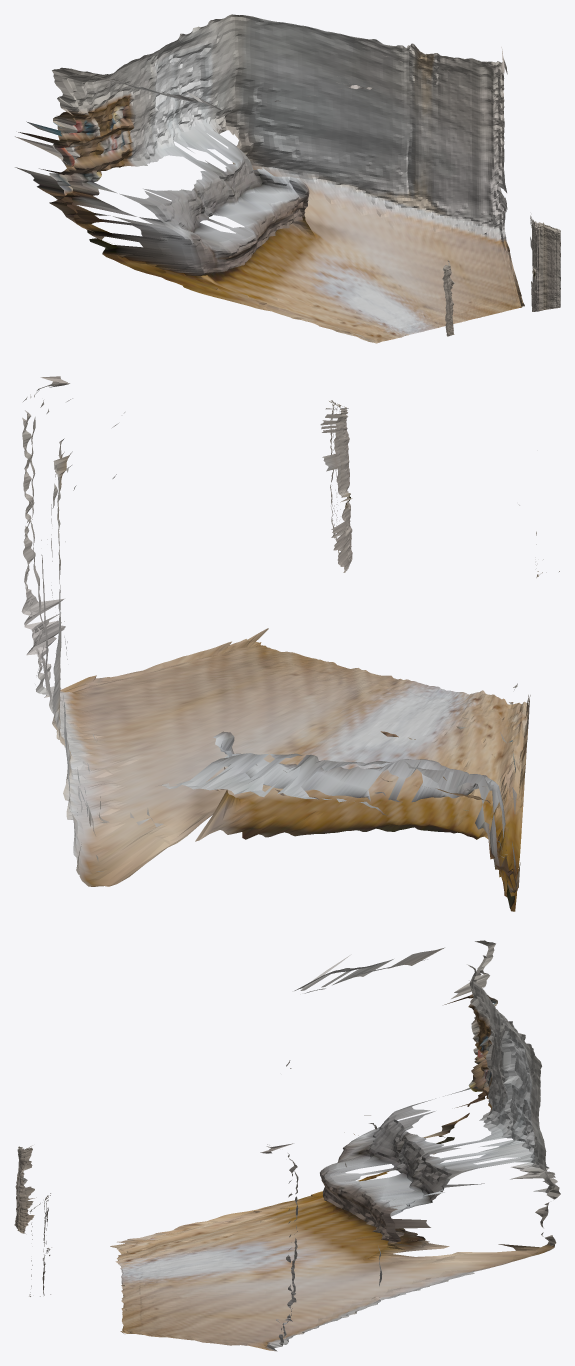
The model's file is room.glb.
3 views of the same model, one above another, from view 1: azimuth 30°, elevation 25°; view 2: azimuth 150°, elevation 25°; view 3: azimuth 270°, elevation 25° (orthographic). The views are drawn at different scales.
Visible parts, largest first — view 1: world; view 2: world; view 3: world.
Boxes of the visible parts, <box> form: world: <box>15,14,560,343</box>; world: <box>21,376,559,911</box>; world: <box>14,940,560,1351</box>.
Size of the model in its own units: 6.74 by 3.58 by 7.3.
